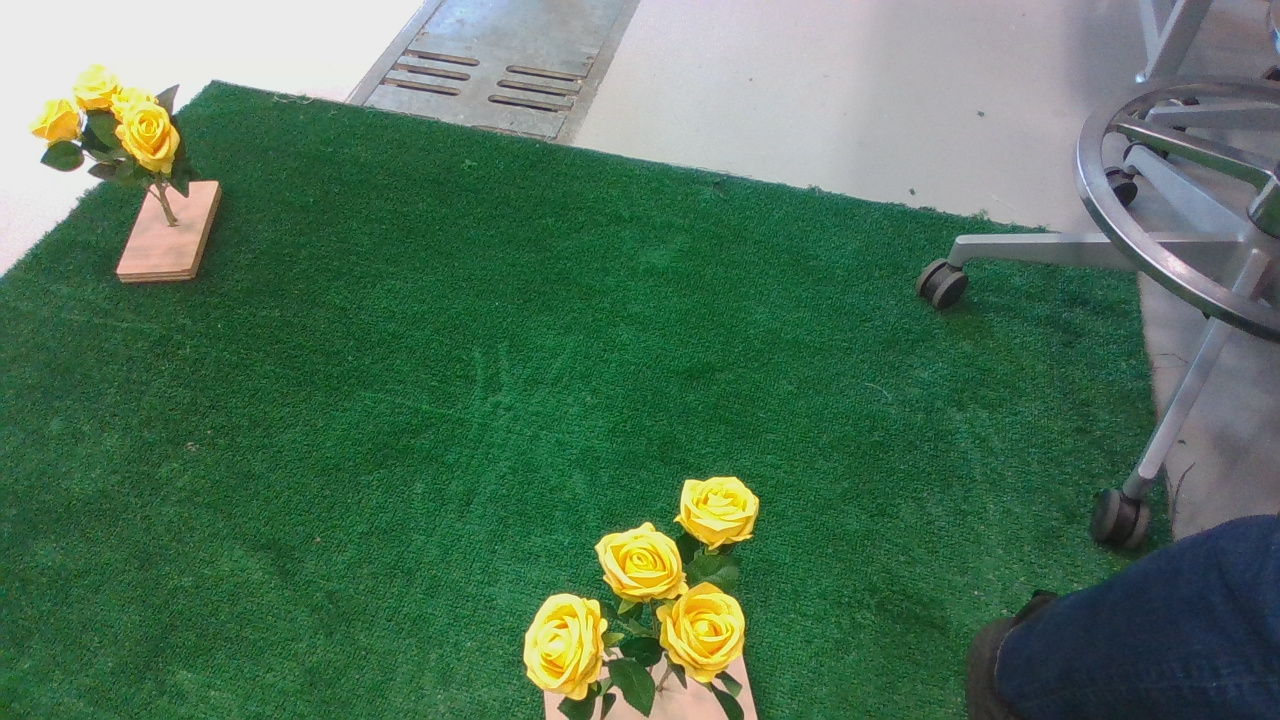rose: (519, 477, 793, 720), (30, 70, 214, 237)
